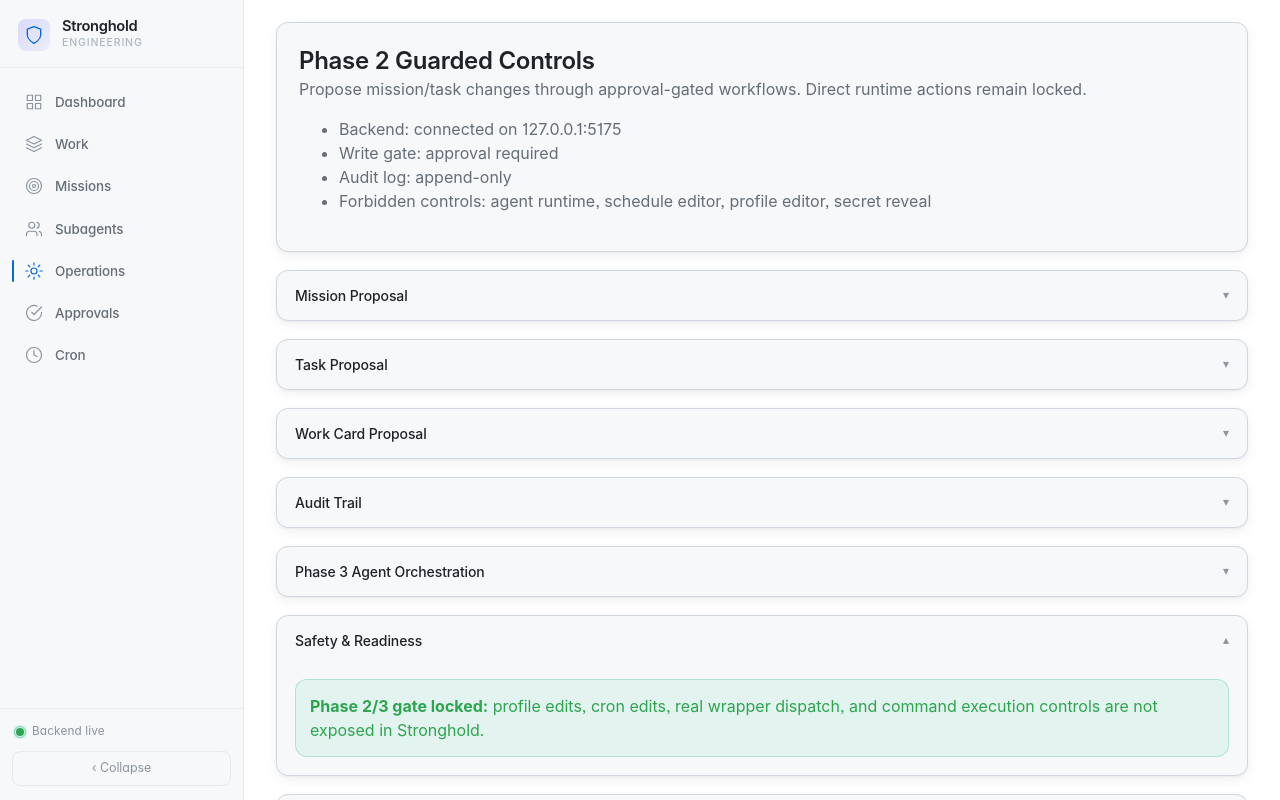
Scenario: Phase 3.5 interactive controls (Phase 47 — sidebar nav) › renders the Approval Queue separately on the Approvals surface
The image size is (1280, 800).
Click the button "Approvals": (122, 313) x1=12 y1=293 x2=231 y2=333
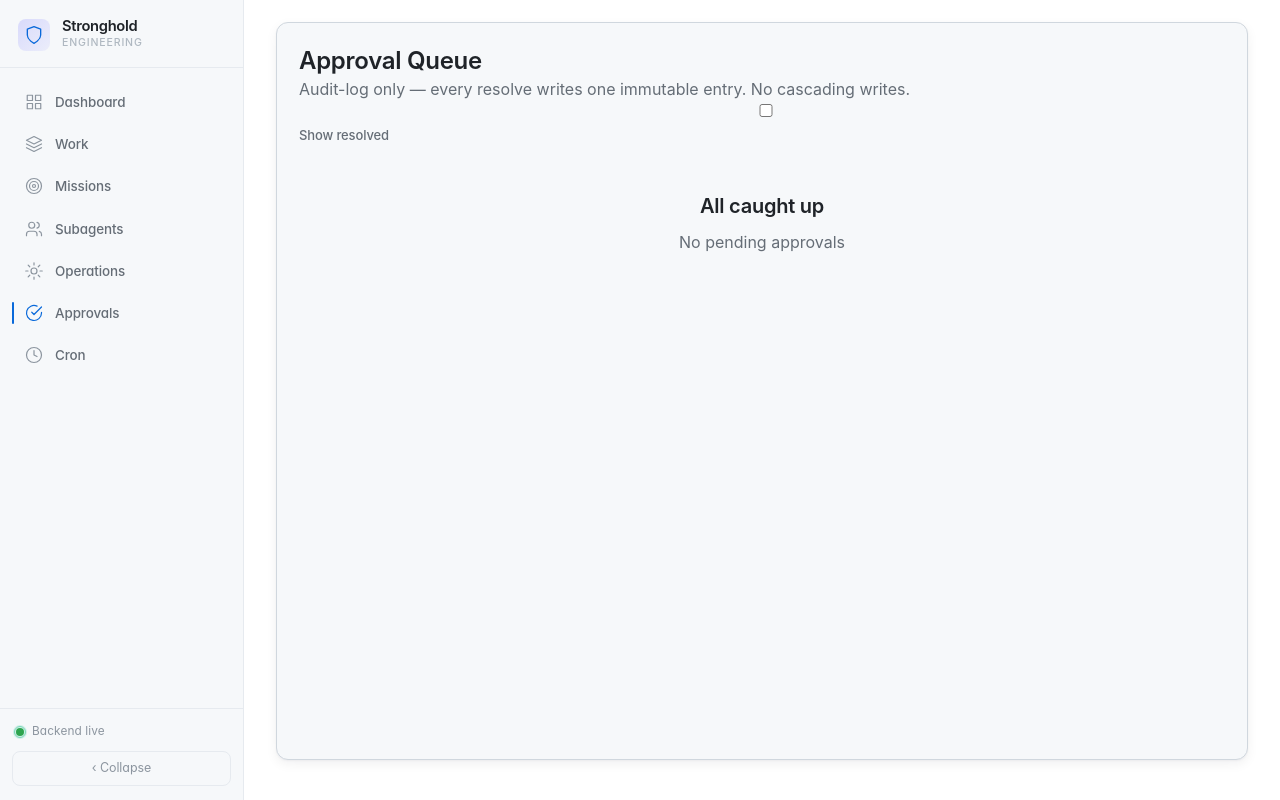
Expected: the text "Approval Queue" is shown, x1=299 y1=46 x2=482 y2=75
Expected: the text "No pending approvals" is shown, x1=679 y1=230 x2=845 y2=254
